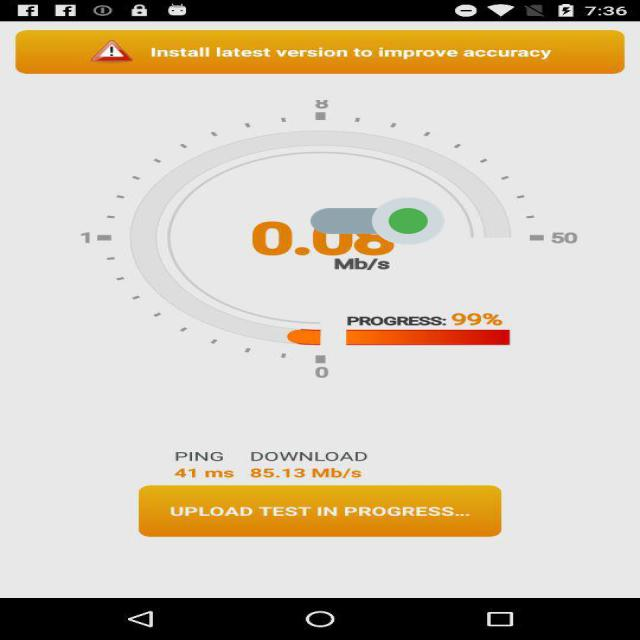social proof: (310, 177, 444, 265)
